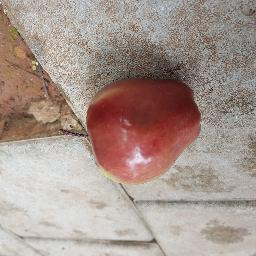Good_apple: (81, 73, 202, 186)
